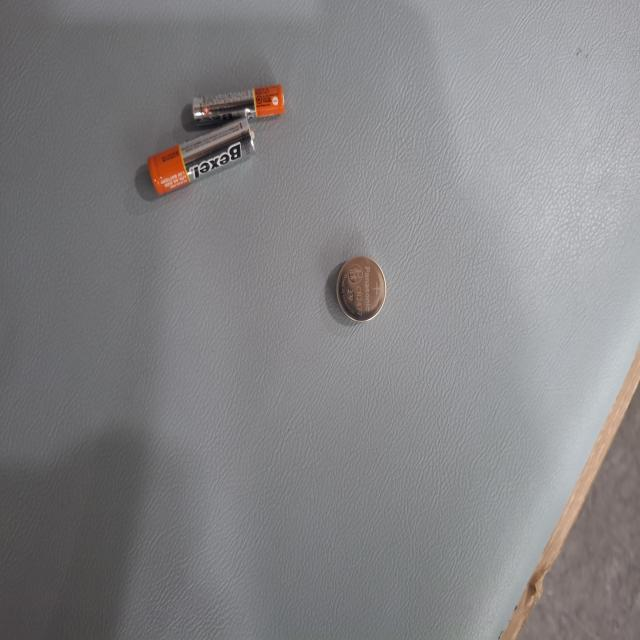AA: (382, 444, 494, 521)
AAA: (357, 513, 452, 555)
COIN: (253, 318, 305, 386)
